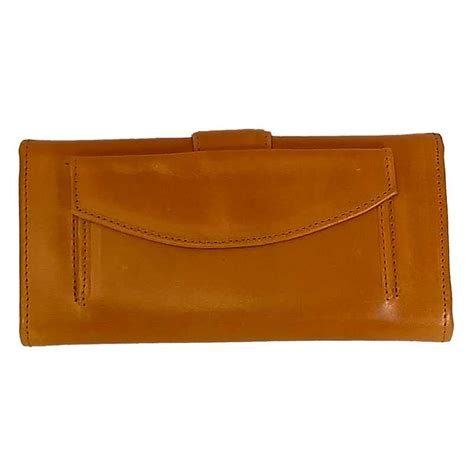cuero: (14, 130, 457, 346)
